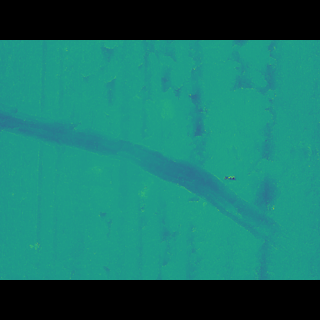Loch: (0, 111, 307, 237)
